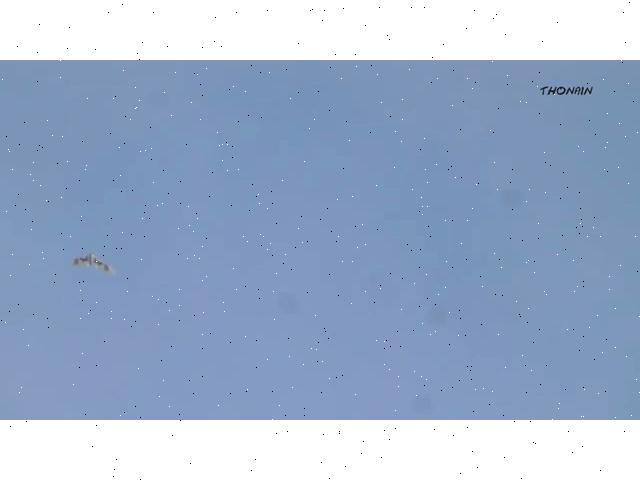Anti-Drone: (72, 255, 112, 273)
